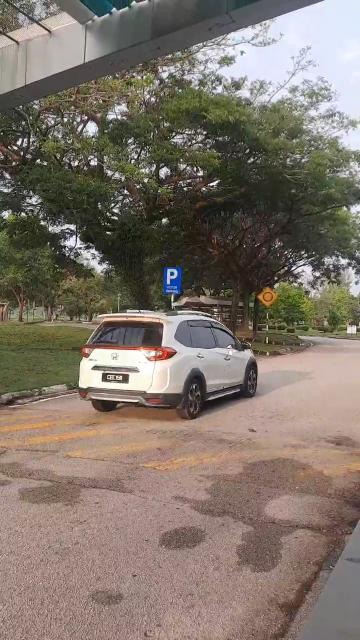License_Plate: (104, 373, 132, 386)
car: (76, 303, 264, 418)
